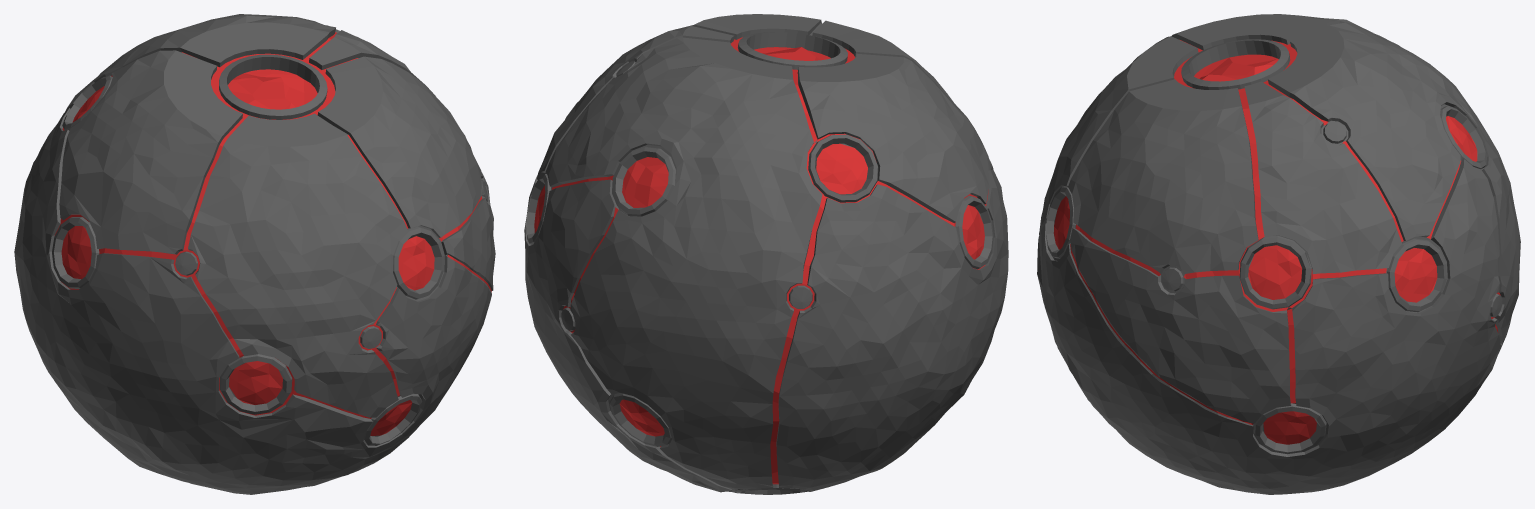
The model's file is Planet_7.glb.
The picture shows the model from 3 angles, left to right: view 1: azimuth 30°, elevation 25°; view 2: azimuth 150°, elevation 25°; view 3: azimuth 270°, elevation 25°; orthographic projection.
Parts seen in each view (by area): view 1: Planet_7; view 2: Planet_7; view 3: Planet_7.
Part boxes in pixels (left/top/right/bottom): Planet_7: left=14, top=14, right=495, bottom=494; Planet_7: left=524, top=14, right=1008, bottom=494; Planet_7: left=1037, top=14, right=1520, bottom=494.
Bounding box in the file's own units: 20.01 × 19.5 × 20.07.
Materials: 1 (1 with a texture image).
